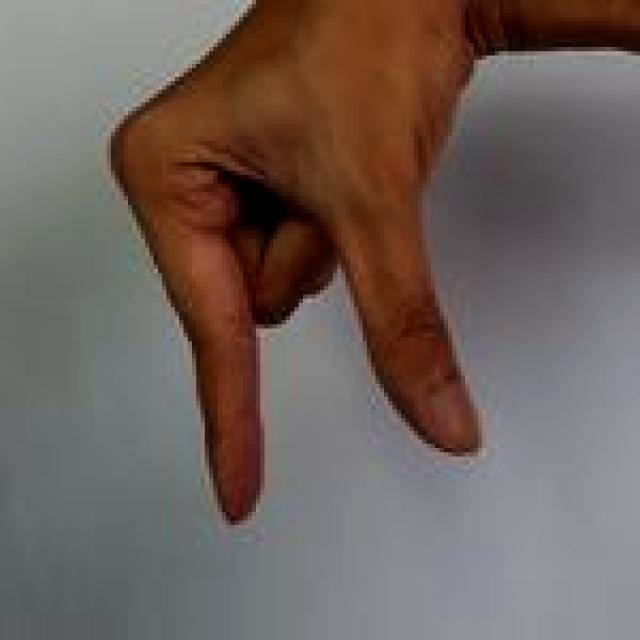Q: (97, 0, 525, 523)
